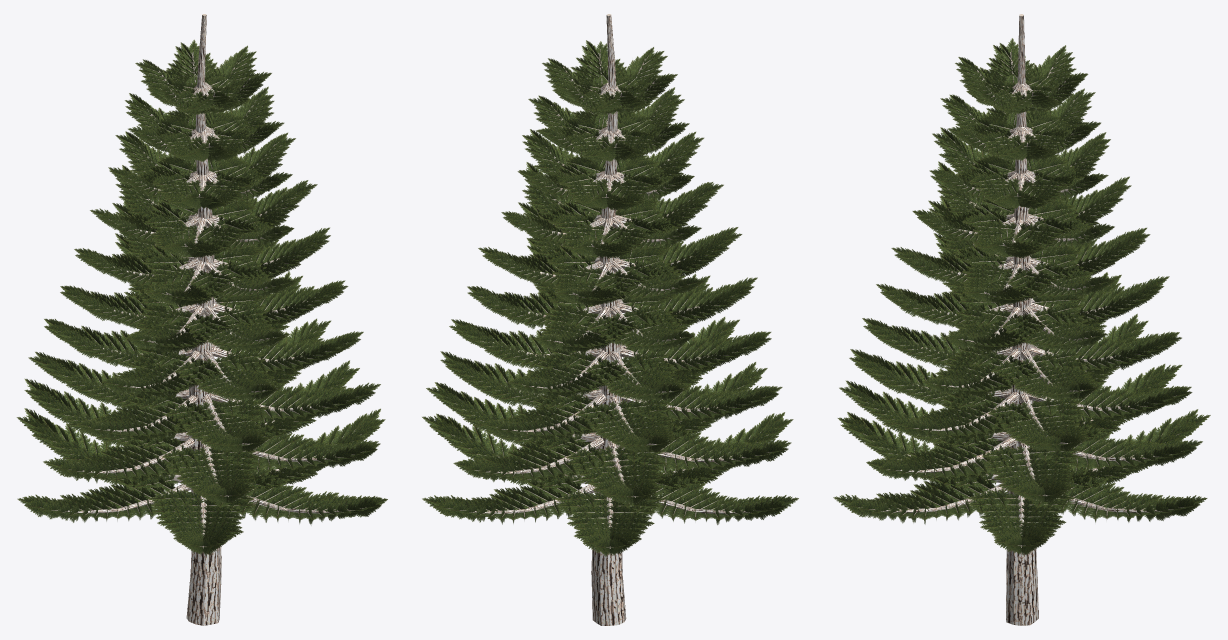
Rendered from pine_natural.glb.
The picture shows the model from 3 angles, left to right: view 1: azimuth 30°, elevation 25°; view 2: azimuth 150°, elevation 25°; view 3: azimuth 270°, elevation 25°; orthographic projection.
Visible parts, largest first — view 1: Individual needle sprays, Natural pine trunk and tiered branches; view 2: Individual needle sprays, Natural pine trunk and tiered branches; view 3: Individual needle sprays, Natural pine trunk and tiered branches.
Part boxes in pixels (x1,y1,x2,y2): Individual needle sprays: (16, 39, 387, 555); Natural pine trunk and tiered branches: (40, 14, 366, 625); Individual needle sprays: (422, 40, 798, 556); Natural pine trunk and tiered branches: (447, 14, 771, 625); Individual needle sprays: (833, 38, 1210, 554); Natural pine trunk and tiered branches: (857, 14, 1184, 625).
Size of the model in its own units: 8.4 by 13.02 by 7.48.
2 materials, 2 textured.
